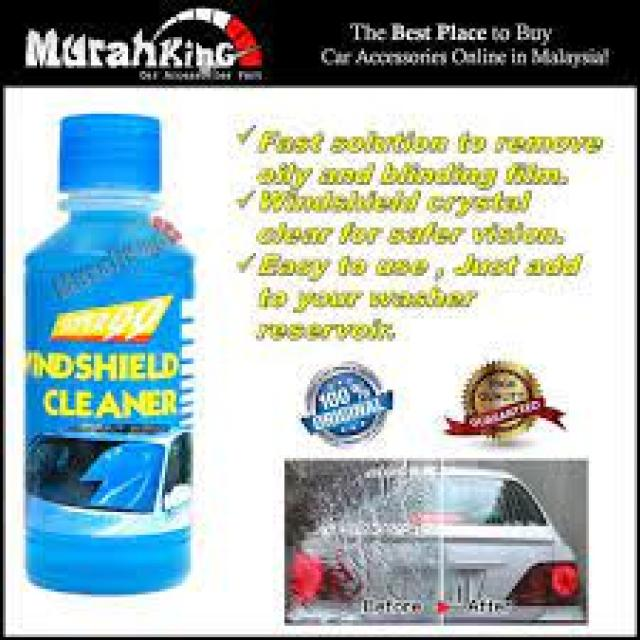winwinshield_washer: (19, 111, 200, 598)
